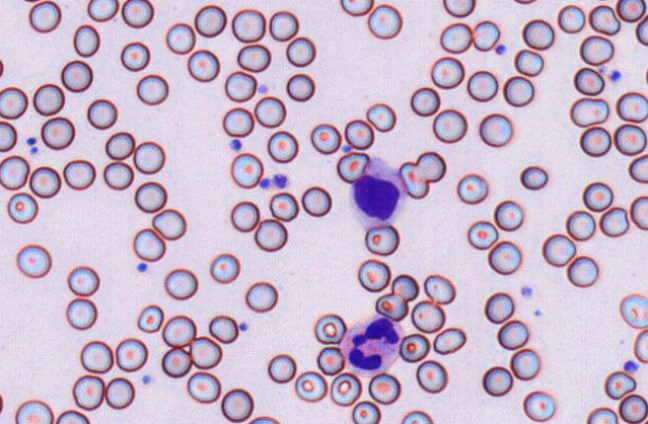GRAN: (342, 314, 404, 377)
MONO: (350, 156, 405, 230)
PLT: (270, 174, 287, 190), (623, 360, 640, 376), (228, 138, 243, 153), (520, 285, 535, 298), (494, 43, 508, 56), (609, 68, 622, 81), (24, 134, 37, 146), (259, 178, 271, 191), (135, 262, 148, 273), (141, 373, 153, 384), (257, 84, 268, 95), (340, 144, 352, 154), (239, 321, 249, 332)
RBC: (15, 243, 51, 278), (367, 3, 402, 39), (432, 108, 467, 143), (569, 97, 609, 127), (410, 299, 445, 333), (487, 240, 521, 275), (541, 233, 576, 267), (72, 374, 105, 410), (230, 152, 263, 188), (231, 8, 265, 42), (40, 116, 75, 149), (115, 337, 148, 372), (220, 388, 253, 422), (357, 258, 390, 292), (132, 227, 165, 261), (162, 314, 196, 347), (479, 113, 512, 147), (430, 56, 464, 89), (186, 371, 221, 403), (151, 208, 186, 240), (579, 34, 614, 66), (254, 218, 287, 251), (189, 336, 222, 369), (60, 59, 93, 92), (80, 340, 113, 373), (415, 359, 447, 393), (133, 140, 165, 174), (164, 268, 198, 300), (364, 224, 399, 255), (294, 370, 327, 402), (187, 49, 219, 82), (194, 4, 226, 37), (65, 297, 97, 330), (28, 0, 61, 32), (136, 73, 169, 105), (32, 83, 65, 115), (521, 18, 554, 50), (613, 123, 646, 155), (330, 372, 361, 406), (29, 166, 61, 198), (368, 372, 400, 404), (224, 70, 256, 102), (254, 96, 286, 128), (566, 255, 598, 287), (313, 313, 346, 344), (62, 159, 95, 190), (104, 376, 135, 409), (245, 281, 278, 312), (134, 181, 167, 212), (522, 390, 555, 421), (267, 130, 298, 163), (0, 155, 29, 190), (236, 43, 271, 72), (619, 293, 647, 329), (6, 192, 38, 223), (423, 273, 455, 304), (502, 75, 534, 106), (67, 265, 99, 296), (456, 173, 488, 204), (440, 22, 472, 53), (579, 125, 611, 156), (588, 4, 620, 35), (615, 91, 647, 122), (415, 151, 446, 182), (467, 70, 498, 101), (310, 123, 341, 154), (268, 10, 299, 41), (482, 365, 513, 396), (86, 98, 117, 129), (484, 291, 514, 323), (509, 348, 539, 380), (165, 22, 195, 54), (496, 319, 528, 349), (493, 199, 523, 231), (301, 185, 331, 217), (222, 107, 254, 137), (14, 399, 53, 423), (161, 347, 191, 378), (209, 253, 240, 283), (599, 206, 629, 237), (365, 102, 396, 132), (285, 36, 315, 67), (582, 181, 613, 211), (565, 210, 595, 241), (230, 200, 259, 232), (102, 161, 134, 190), (375, 293, 408, 321), (121, 0, 154, 28), (0, 86, 28, 119), (410, 86, 440, 116), (120, 41, 150, 71), (344, 119, 374, 149), (399, 333, 430, 362), (467, 220, 498, 249), (573, 66, 604, 95), (73, 24, 100, 57), (433, 327, 466, 354), (208, 314, 238, 343), (267, 353, 296, 383), (105, 131, 135, 160), (618, 393, 647, 423), (269, 192, 299, 221), (472, 20, 500, 51), (316, 346, 345, 375), (513, 48, 543, 76), (286, 73, 315, 101), (557, 4, 585, 33), (391, 273, 419, 301), (137, 304, 163, 333), (519, 165, 548, 190), (351, 400, 381, 423), (86, 0, 118, 21), (616, 0, 645, 22), (629, 195, 647, 230), (628, 153, 647, 183), (0, 120, 17, 152), (443, 0, 475, 17), (586, 406, 618, 423), (340, 0, 373, 16), (633, 328, 647, 363), (55, 409, 90, 423), (400, 409, 433, 423), (635, 13, 647, 45), (248, 415, 280, 423), (512, 0, 537, 4), (0, 391, 4, 415), (644, 64, 648, 86), (0, 57, 4, 77), (21, 0, 44, 2)
Schistocyte: (399, 161, 430, 201), (335, 152, 370, 183), (603, 370, 638, 400)
